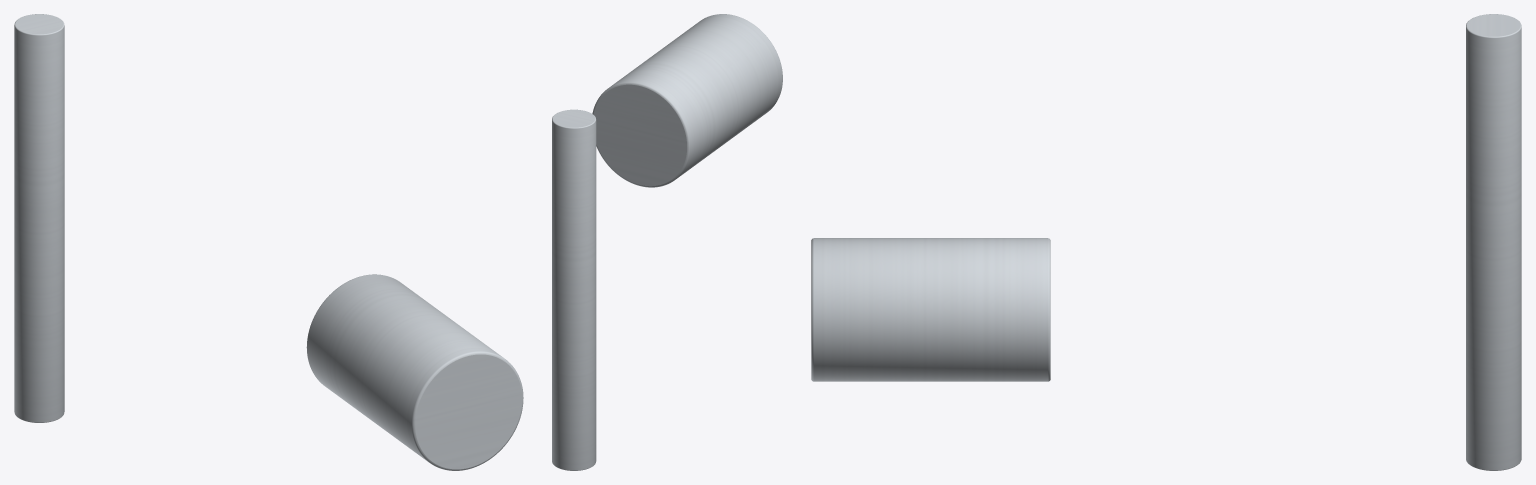
File: caster_swivel_link_aluminium.obj
3 views of the same model, side by side, from view 1: azimuth 30°, elevation 25°; view 2: azimuth 150°, elevation 25°; view 3: azimuth 270°, elevation 25° (orthographic). The views are drawn at different scales.
Visible parts, largest first — view 1: caster_swivel_link__swivel_shaft, caster_swivel_link__caster_axle; view 2: caster_swivel_link__swivel_shaft, caster_swivel_link__caster_axle; view 3: caster_swivel_link__swivel_shaft, caster_swivel_link__caster_axle.
Boxes of the visible parts, x1=… form: caster_swivel_link__swivel_shaft: x1=306, y1=274, x2=523, y2=470; caster_swivel_link__caster_axle: x1=14, y1=14, x2=64, y2=422; caster_swivel_link__swivel_shaft: x1=592, y1=14, x2=782, y2=187; caster_swivel_link__caster_axle: x1=552, y1=109, x2=596, y2=470; caster_swivel_link__swivel_shaft: x1=811, y1=238, x2=1050, y2=381; caster_swivel_link__caster_axle: x1=1466, y1=14, x2=1521, y2=470.
Bounding box in the file's own units: 0.0325 × 0.06 × 0.089.
Materials: 1 (1 with a texture image).
